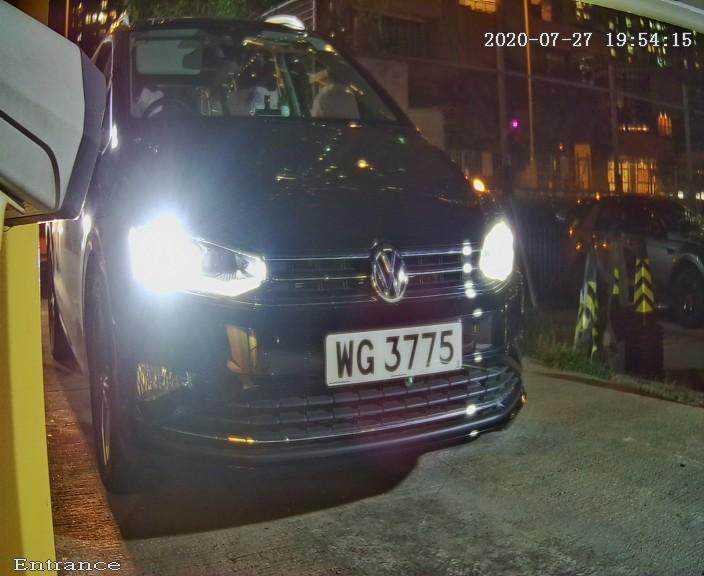privatecar: (54, 11, 579, 515)
